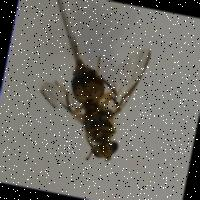Oriental-fruit-fly: (14, 16, 164, 179)
